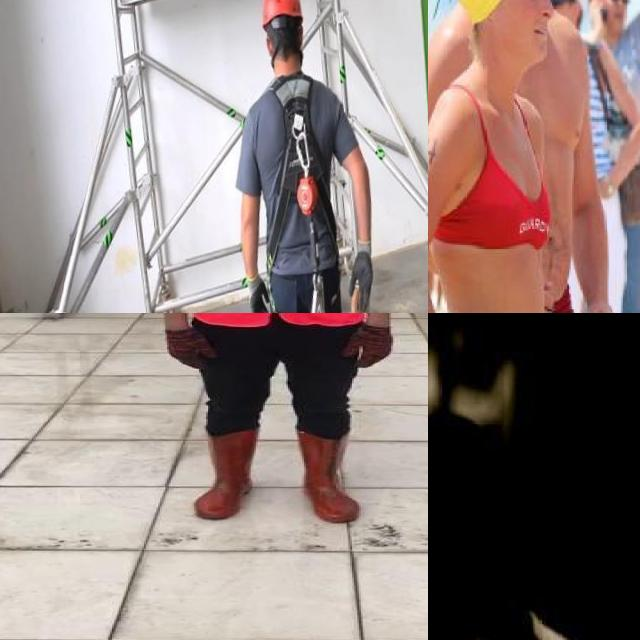Harness: (268, 74, 338, 272)
boots: (190, 425, 260, 521), (300, 433, 362, 523)
face_nomask: (516, 0, 562, 50), (602, 0, 631, 25)
hand_glove: (162, 329, 217, 370), (338, 327, 393, 367)
person: (147, 313, 408, 541), (428, 0, 578, 313)
